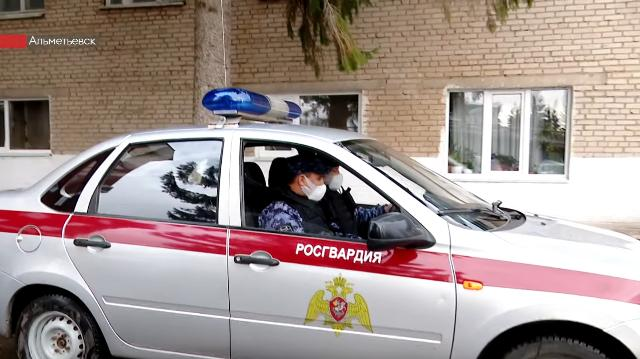police car: (1, 89, 640, 359)
